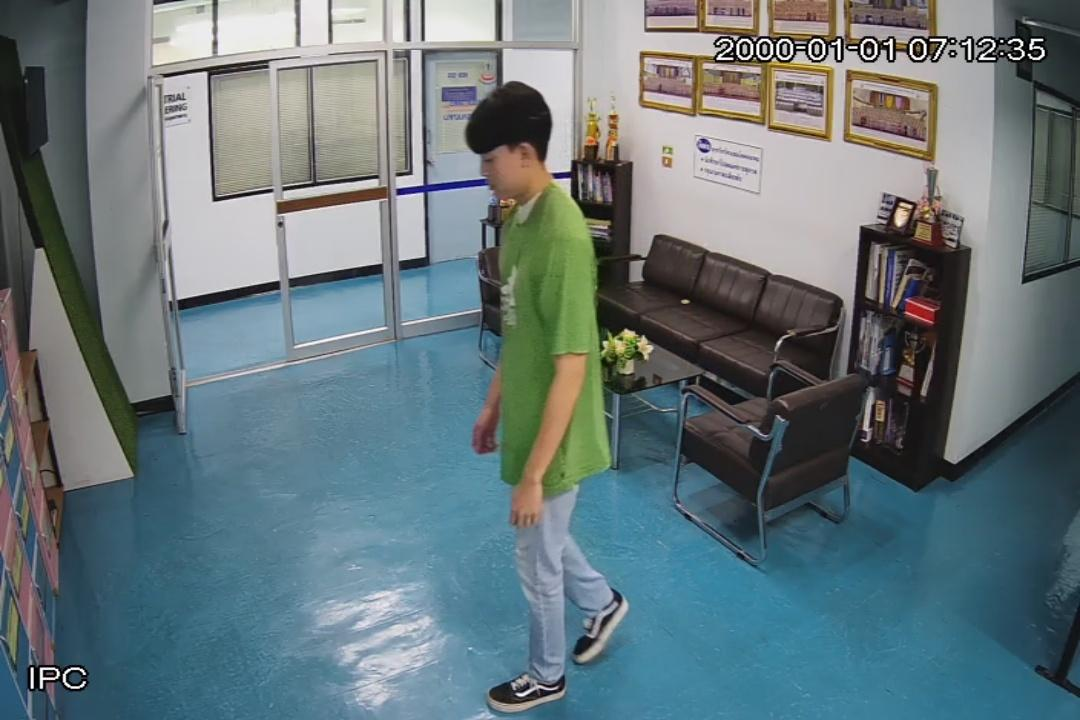normal: (463, 79, 631, 720)
